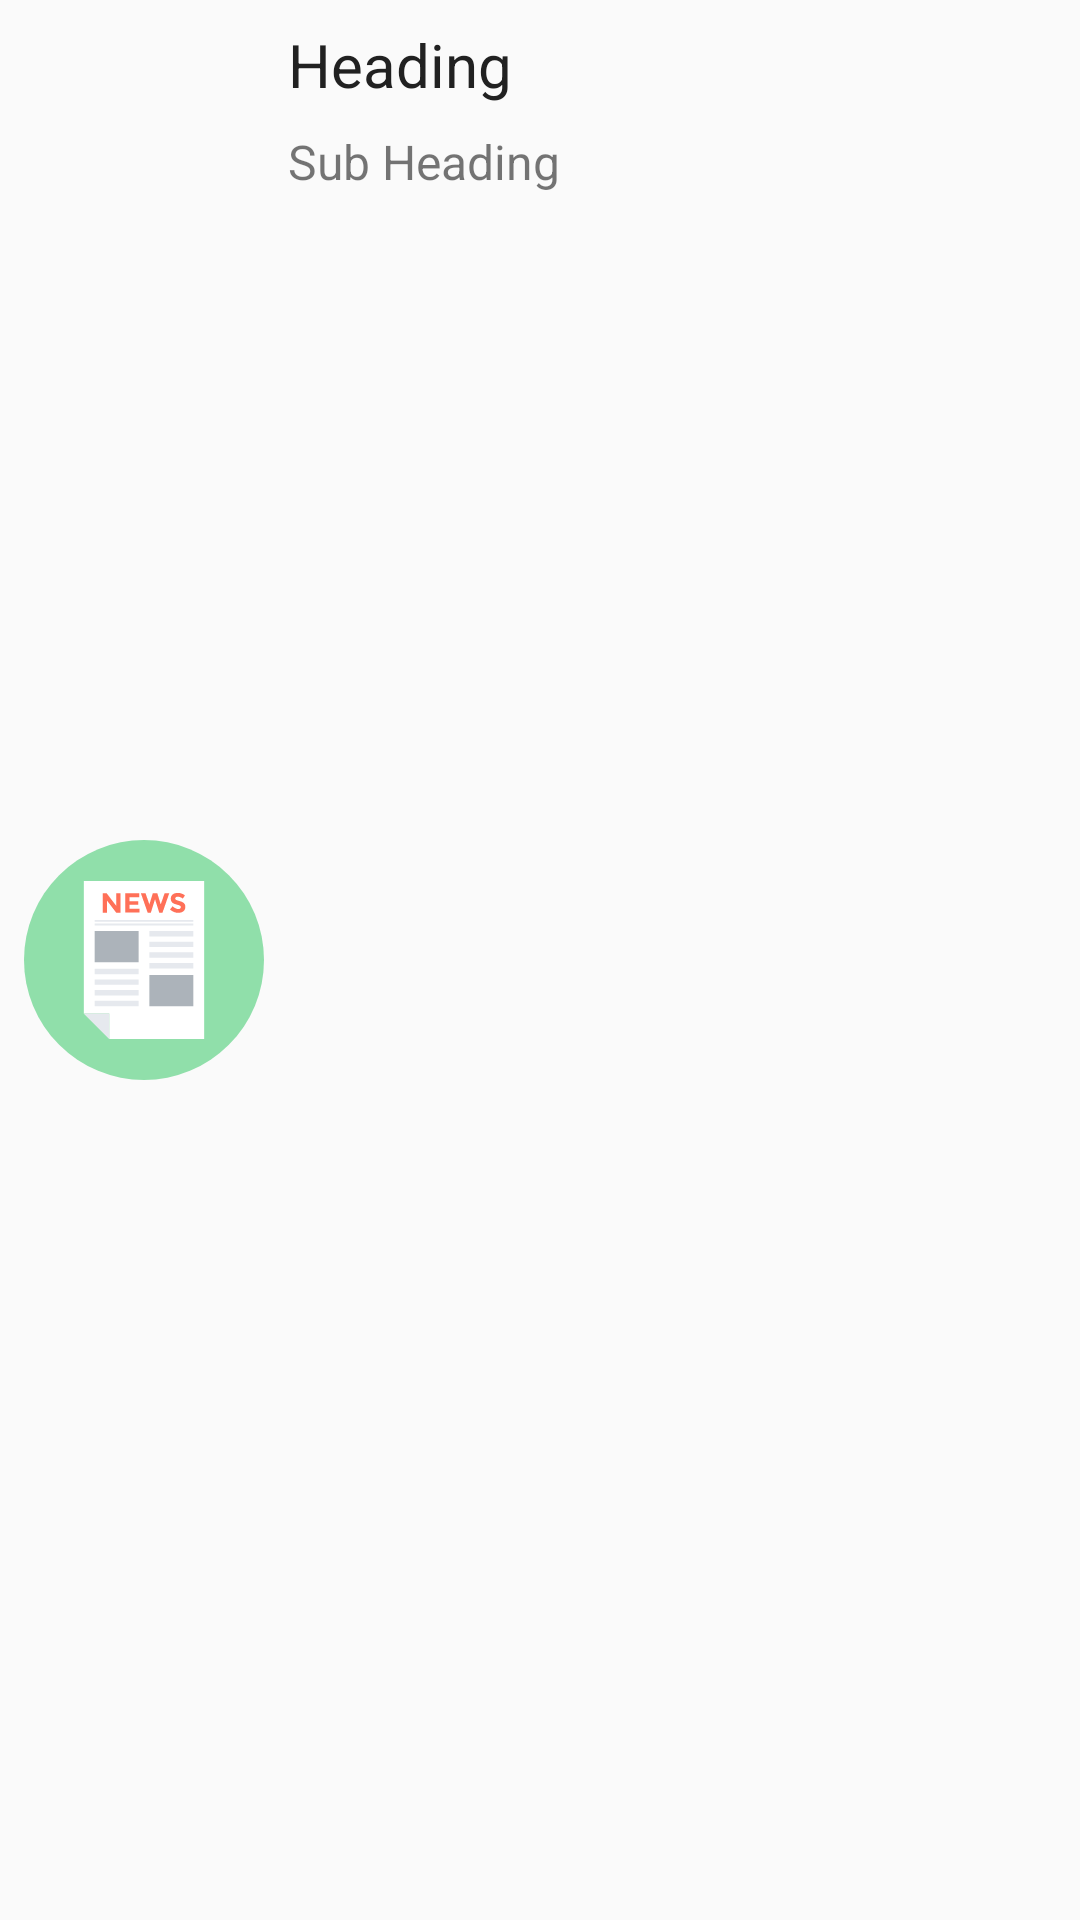

Where to tap for icons on this 1080*1920 app screen, as [x,y]:
Empty State view: [144,960]
